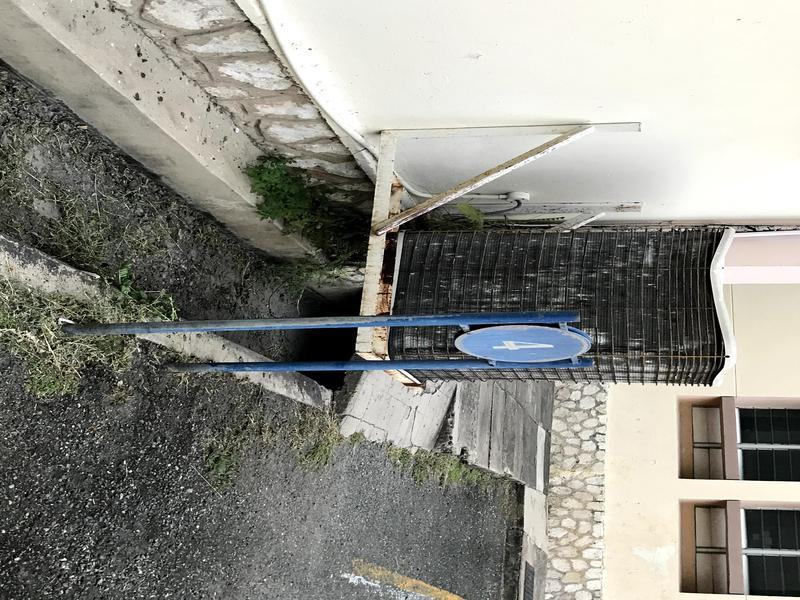18.0053530_-76.7490375_signatentrancetoscitech: (48, 289, 610, 403)
